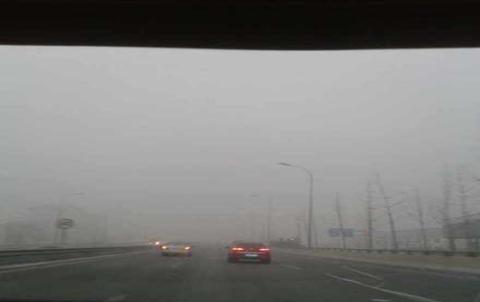car: (223, 238, 271, 263), (159, 239, 193, 256)
